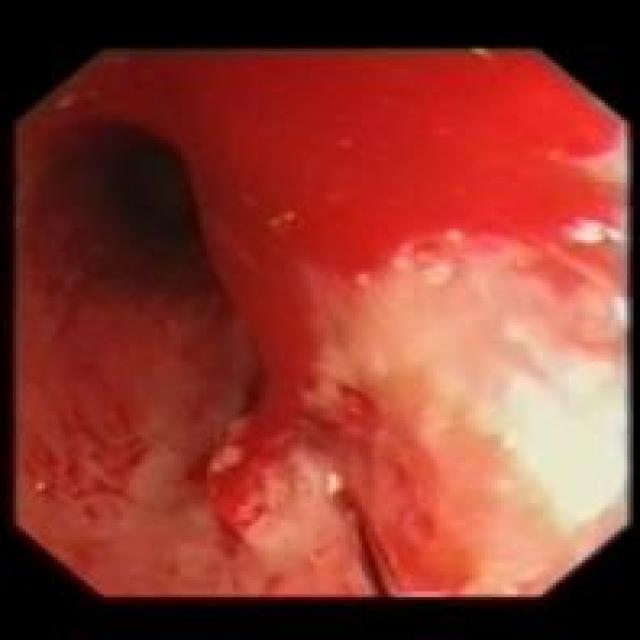blood: (62, 51, 624, 313), (23, 331, 167, 521), (197, 400, 334, 549)
contrast: (17, 53, 220, 299)
instrument: (340, 501, 405, 595)
saturation: (429, 103, 630, 529)
